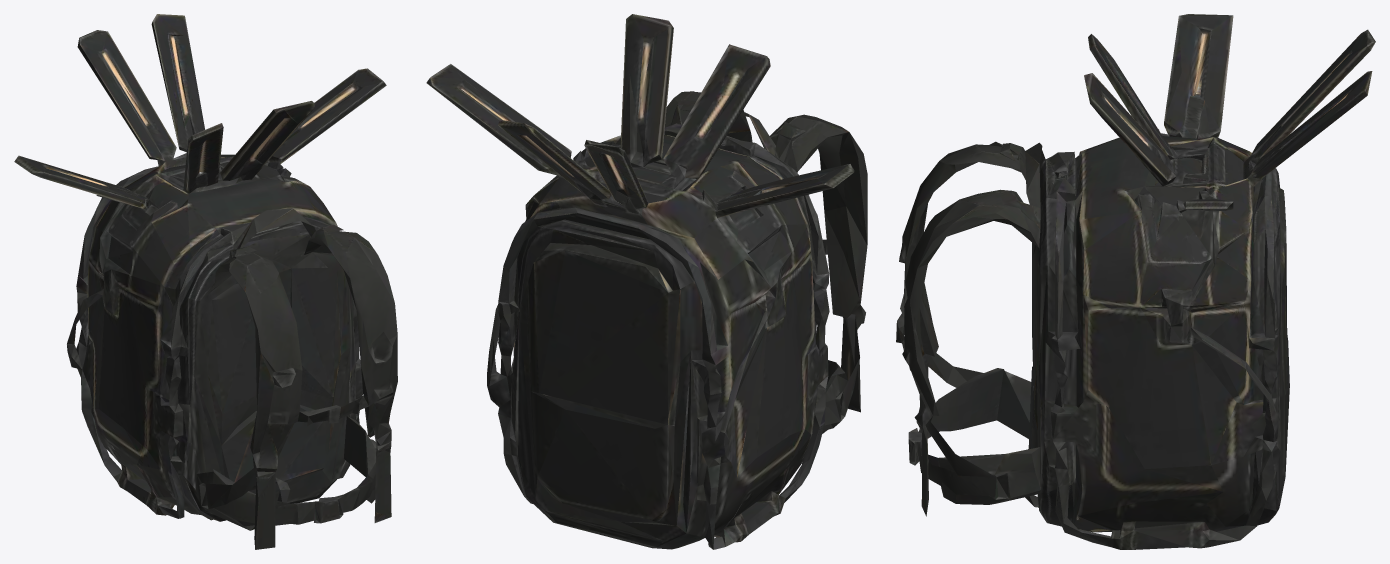
File: banked-projector.glb
The picture shows the model from 3 angles, left to right: view 1: azimuth 30°, elevation 25°; view 2: azimuth 150°, elevation 25°; view 3: azimuth 270°, elevation 25°; orthographic projection. The views are drawn at different scales.
Parts seen in each view (by area): view 1: Mesh_0; view 2: Mesh_0; view 3: Mesh_0.
Part boxes in pixels (x1,y1,x2,y2): Mesh_0: [14, 14, 397, 549]; Mesh_0: [426, 14, 867, 549]; Mesh_0: [896, 14, 1375, 549].
Bounding box in the file's own units: 0.5771 × 0.62 × 0.5907.
Materials: 1 (1 with a texture image).
